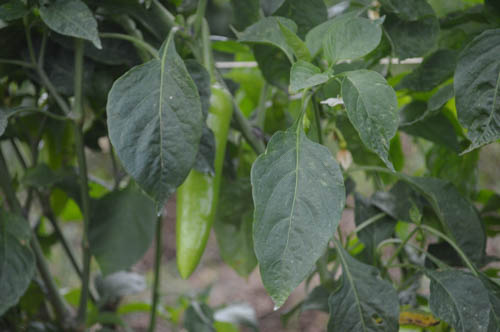ChiliPepper: (174, 82, 230, 284)
